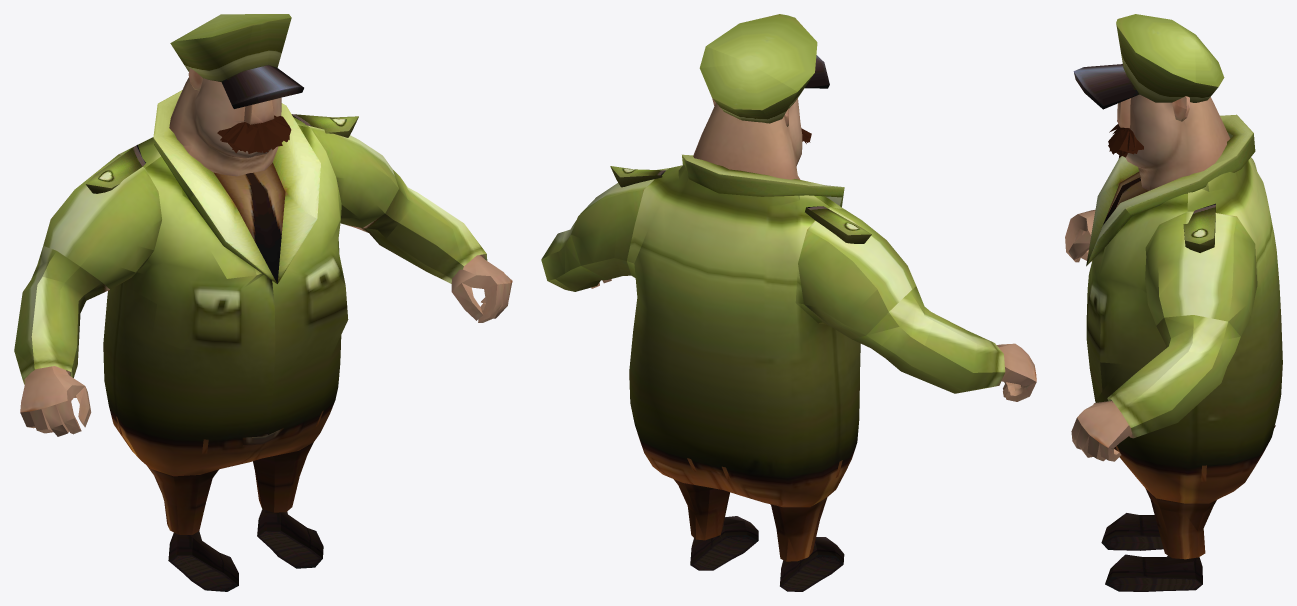
Rendered from inspector.fbx.
3 renders of one model, left to right at view 1: azimuth 30°, elevation 25°; view 2: azimuth 150°, elevation 25°; view 3: azimuth 270°, elevation 25°, orthographic. The views are drawn at different scales.
Parts seen in each view (by area): view 1: Object_3, Object_2, Object_4; view 2: Object_3, Object_2; view 3: Object_3, Object_2, Object_4.
Boxes of the visible parts, box(x1,y1,x2,y2) form: Object_3: box(14, 68, 512, 534); Object_2: box(85, 14, 358, 591); Object_4: box(217, 115, 291, 153); Object_3: box(541, 98, 1036, 561); Object_2: box(610, 14, 871, 591); Object_3: box(1065, 94, 1282, 559); Object_2: box(1073, 14, 1255, 591); Object_4: box(1108, 124, 1143, 158).
Bounding box in the file's own units: 179 × 190 × 69.62.
Materials: 3 (3 with a texture image).
